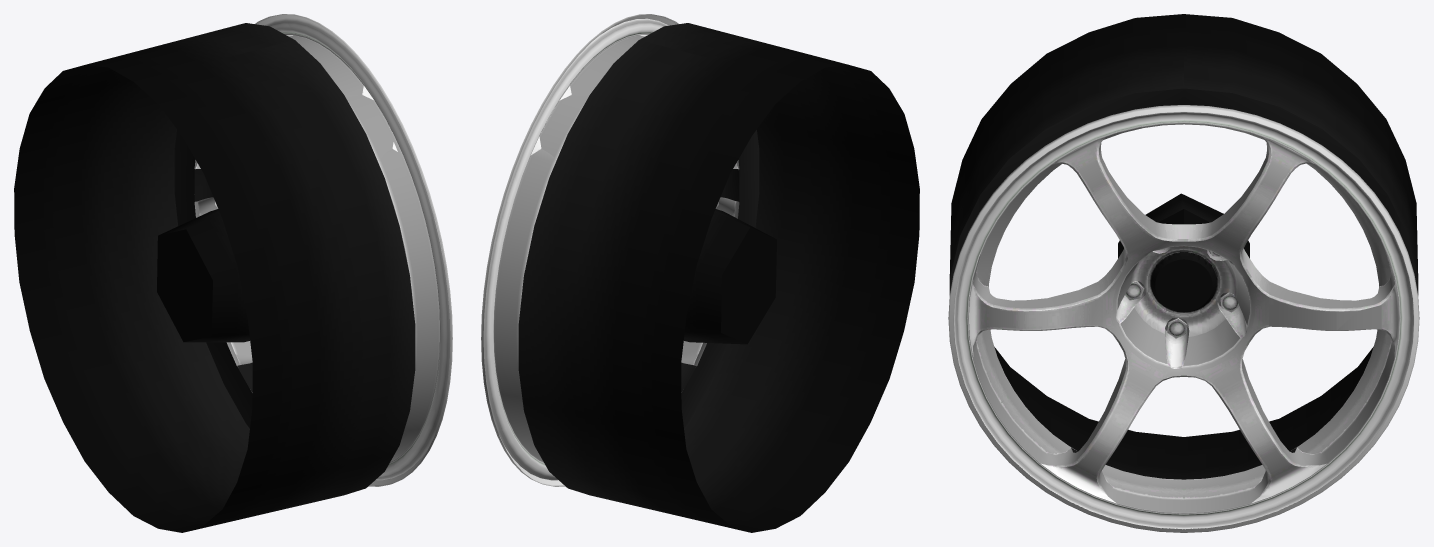
Rendered from wheel9.fbx.
3 renders of one model, left to right at view 1: azimuth 30°, elevation 25°; view 2: azimuth 150°, elevation 25°; view 3: azimuth 270°, elevation 25°, orthographic. The views are drawn at different scales.
Parts seen in each view (by area): view 1: adv_rgii_wheel_wheel_inner_rim_, wheel_rim, adv_rgii_wheel_wheel_rim_; view 2: adv_rgii_wheel_wheel_inner_rim_, wheel_rim, adv_rgii_wheel_wheel_rim_; view 3: adv_rgii_wheel_wheel_rim_, adv_rgii_wheel_wheel_inner_rim_, wheel_rim, adv_rgii_wheel_wheel_wheel_emblem_.
Boxes of the visible parts, box(x1,y1,x2,y2) form: adv_rgii_wheel_wheel_inner_rim_: box(14, 23, 415, 532); wheel_rim: box(195, 14, 452, 486); adv_rgii_wheel_wheel_rim_: box(194, 15, 440, 486); adv_rgii_wheel_wheel_inner_rim_: box(518, 23, 919, 532); wheel_rim: box(481, 14, 738, 486); adv_rgii_wheel_wheel_rim_: box(488, 14, 739, 486); adv_rgii_wheel_wheel_rim_: box(954, 105, 1413, 529); adv_rgii_wheel_wheel_inner_rim_: box(949, 14, 1418, 479); wheel_rim: box(948, 105, 1419, 532); adv_rgii_wheel_wheel_wheel_emblem_: box(977, 163, 1381, 330).
Bounding box in the file's own units: 0.2319 × 0.4802 × 0.4801.
1 material, 1 textured.
